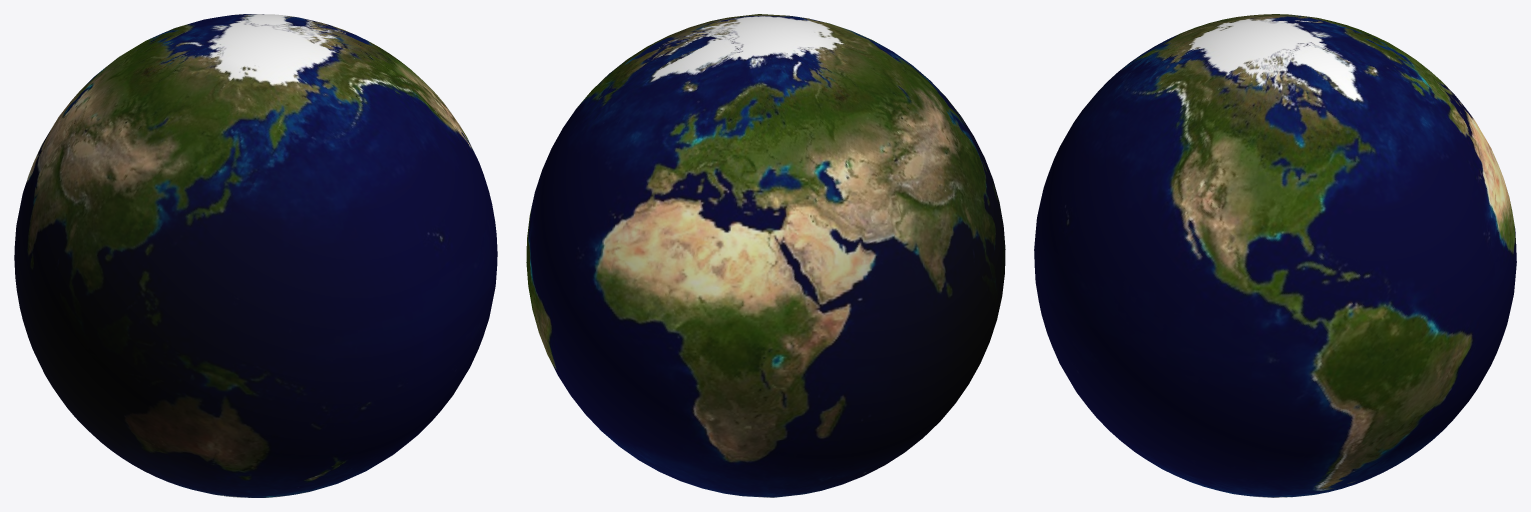
File: Earth.glb
3 renders of one model, left to right at view 1: azimuth 30°, elevation 25°; view 2: azimuth 150°, elevation 25°; view 3: azimuth 270°, elevation 25°, orthographic.
Visible parts, largest first — view 1: earth; view 2: earth; view 3: earth.
Boxes of the visible parts, x1,y1,x2,y2 form: earth: (14, 14, 497, 497); earth: (526, 14, 1005, 497); earth: (1034, 14, 1516, 497).
Bounding box in the file's own units: 19.73 × 19.83 × 19.76.
1 material, 1 textured.
